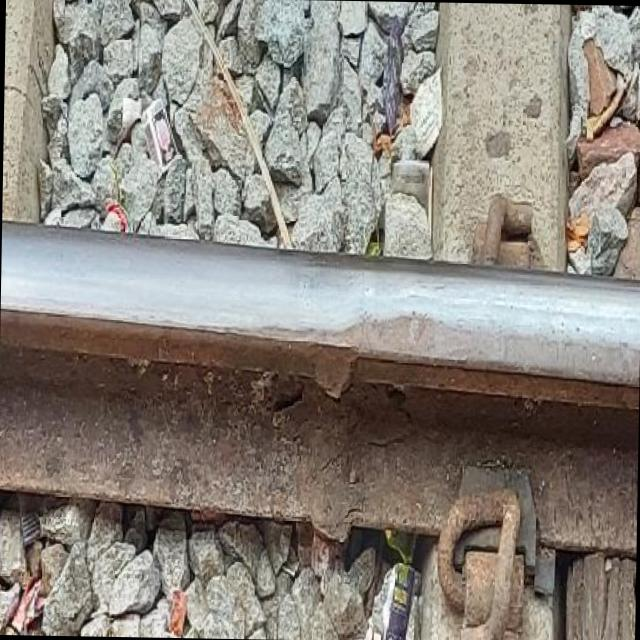non-defective: (0, 231, 638, 466)
